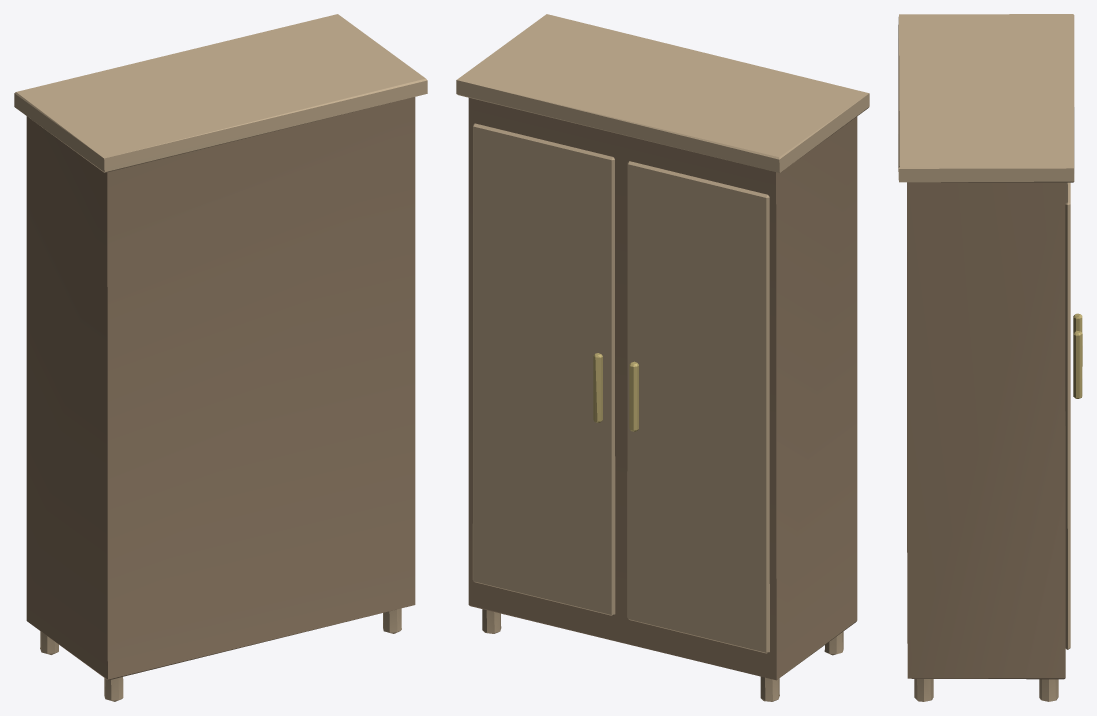
The model's file is furn_wardrobe__walnut_low.glb.
3 renders of one model, left to right at view 1: azimuth 30°, elevation 25°; view 2: azimuth 150°, elevation 25°; view 3: azimuth 270°, elevation 25°, orthographic. The views are drawn at different scales.
Size of the model in its own units: 1.25 by 2.06 by 0.6343.
